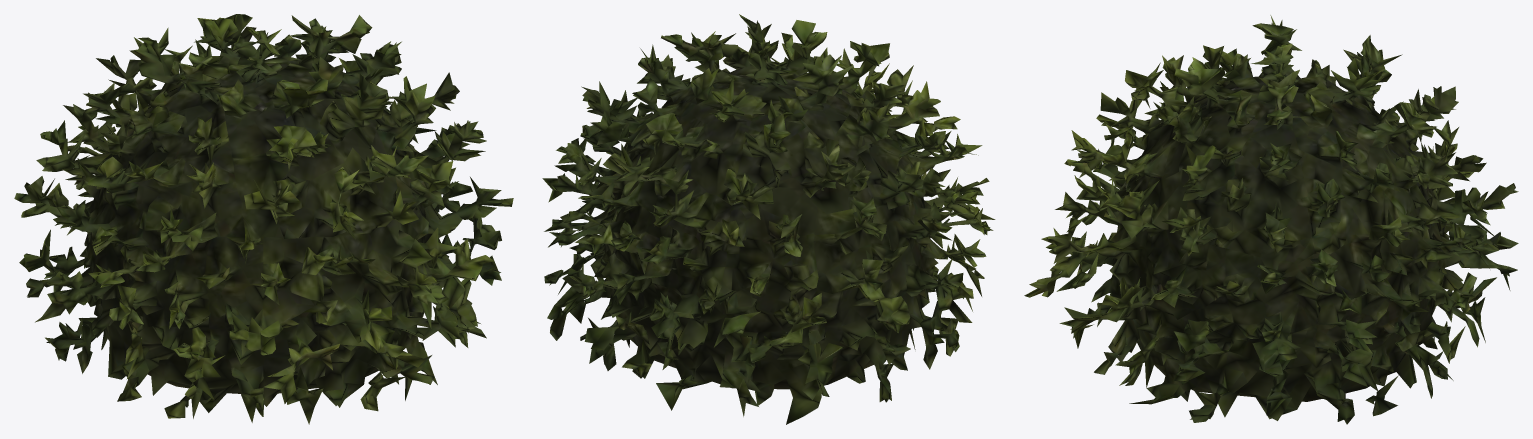
The model's file is shrub.glb.
The picture shows the model from 3 angles, left to right: view 1: azimuth 30°, elevation 25°; view 2: azimuth 150°, elevation 25°; view 3: azimuth 270°, elevation 25°; orthographic projection. The views are drawn at different scales.
Visible parts, largest first — view 1: shrub; view 2: shrub; view 3: shrub.
Part boxes in pixels (bbox=[...]): shrub: bbox=[14, 14, 513, 424]; shrub: bbox=[542, 14, 995, 424]; shrub: bbox=[1024, 15, 1518, 424].
Bounding box in the file's own units: 0.9448 × 0.6838 × 0.9682.
Materials: 1 (1 with a texture image).
